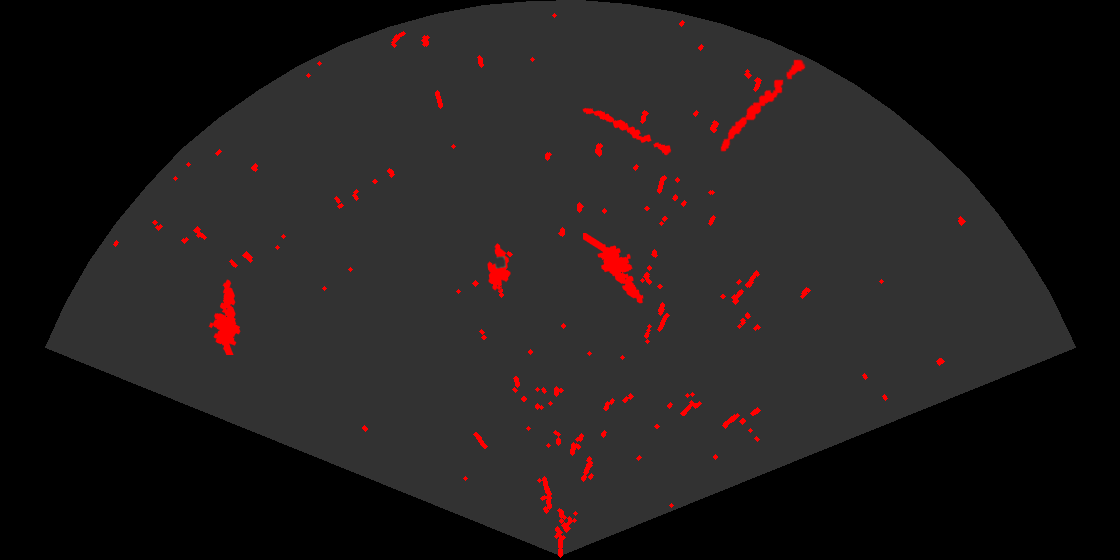AUV: (486, 242, 512, 292)
chain: (719, 58, 807, 153), (581, 106, 673, 157)
frogman: (583, 233, 645, 305), (207, 278, 242, 355)
